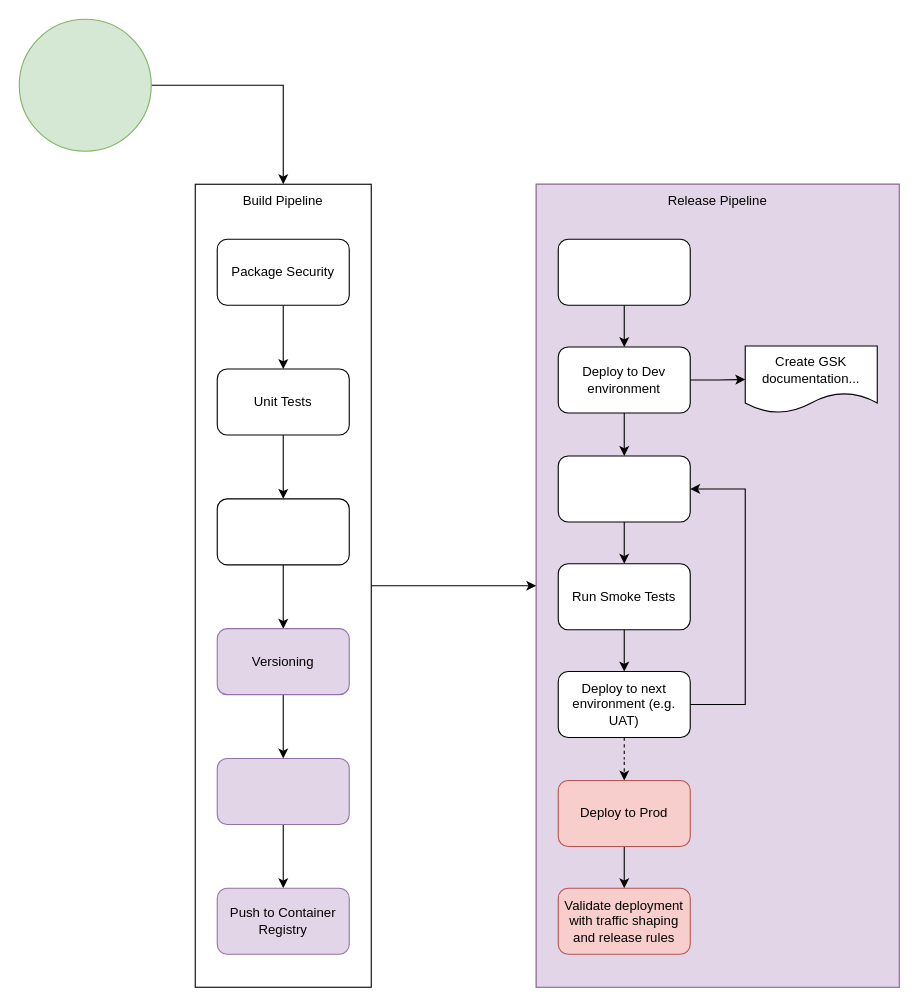
Image size: 919x1007. Some labels were removed from this diagram. The shapes that lost their labels are listed below. From the top down, each one's centre as x and y in pixels, then its label:
At point 84,84: "PR merged".
At point 623,271: "Get the published Artifact".
At point 623,488: "Confirm Deployment".
At point 282,531: "Functional Tests".
At point 282,790: "Build".
